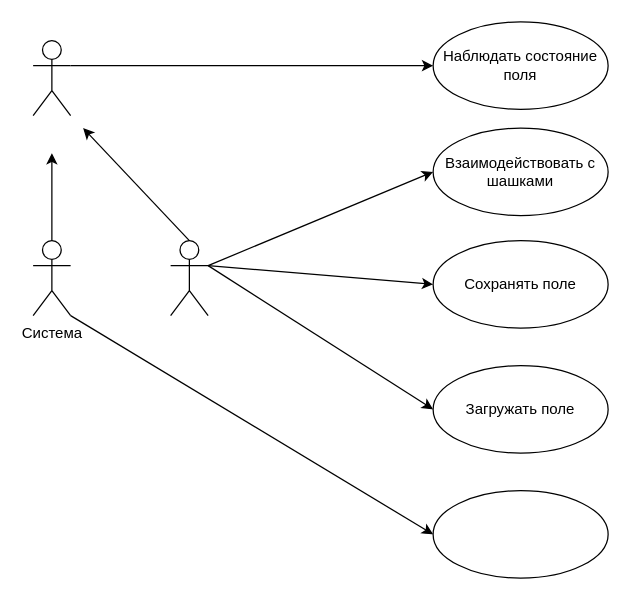
Image size: 630x600. Some labels were removed from this diagram. Each missing label, with the box of its shape:
Актор: (32, 39, 71, 116)
Пользователь: (169, 239, 208, 316)
Следить за правильностью действий шашек: (432, 489, 608, 578)
